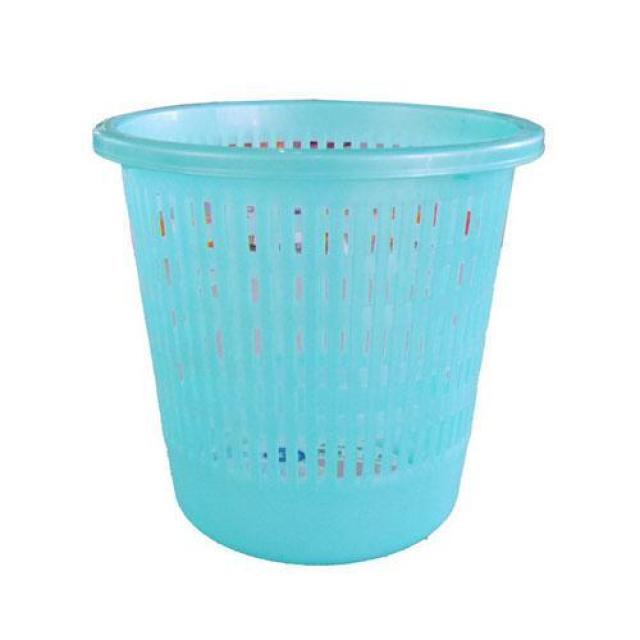dustbin: (93, 92, 552, 574)
